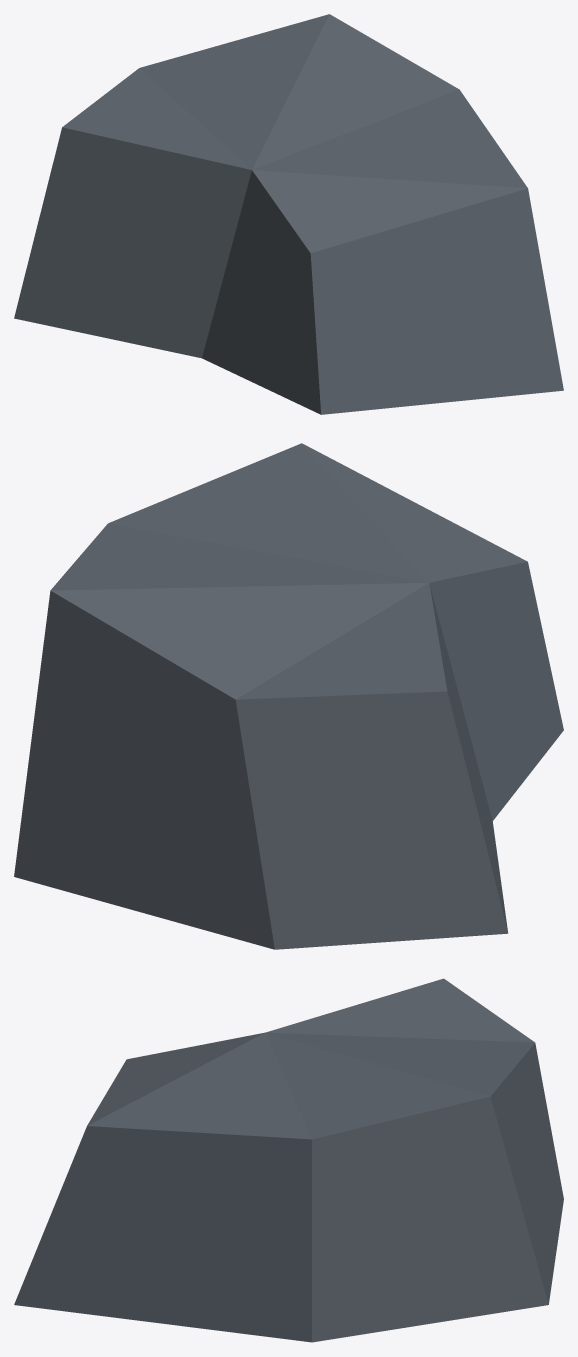
Rendered from FlatRock-C13.fbx.
The picture shows the model from 3 angles, top to bottom: view 1: azimuth 30°, elevation 25°; view 2: azimuth 150°, elevation 25°; view 3: azimuth 270°, elevation 25°; orthographic projection. The views are drawn at different scales.
Parts seen in each view (by area): view 1: FlatRock-C13; view 2: FlatRock-C13; view 3: FlatRock-C13.
Boxes of the visible parts, x1=… form: FlatRock-C13: x1=14, y1=14, x2=563, y2=414; FlatRock-C13: x1=14, y1=443, x2=563, y2=949; FlatRock-C13: x1=14, y1=978, x2=563, y2=1342.
Bounding box in the file's own units: 116 × 54.84 × 131.
